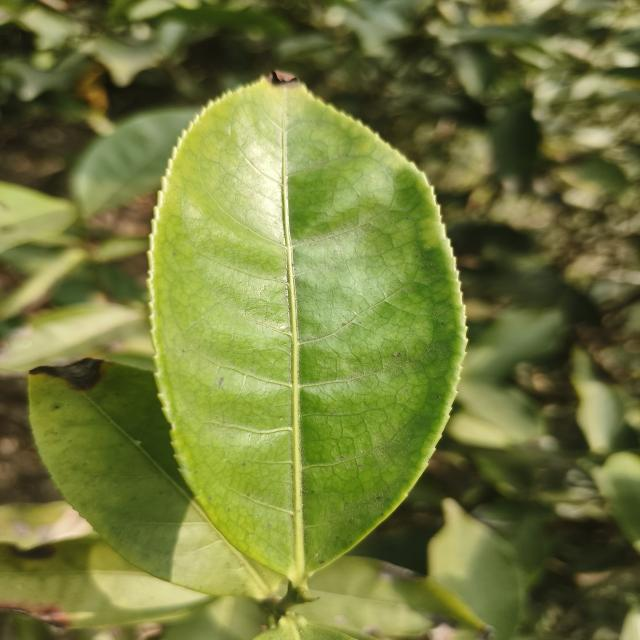Leaf: (150, 79, 465, 585), (29, 359, 282, 600), (0, 538, 213, 628), (294, 556, 488, 638), (70, 107, 196, 218), (427, 498, 525, 640), (0, 303, 144, 371), (462, 309, 566, 382), (571, 348, 624, 454), (0, 182, 76, 253), (490, 99, 540, 179)
